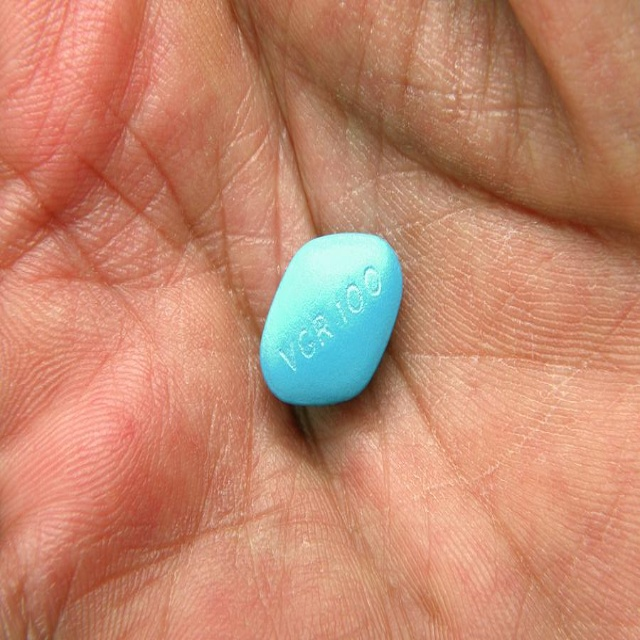pill: (364, 216, 567, 382)
